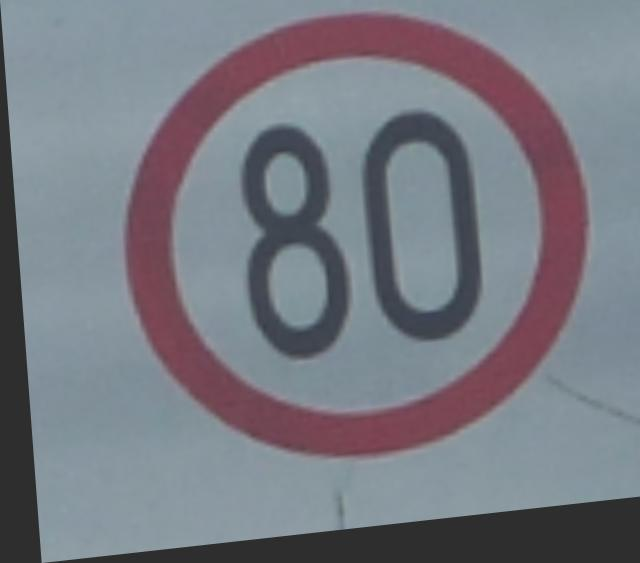limit80: (92, 0, 609, 500)
